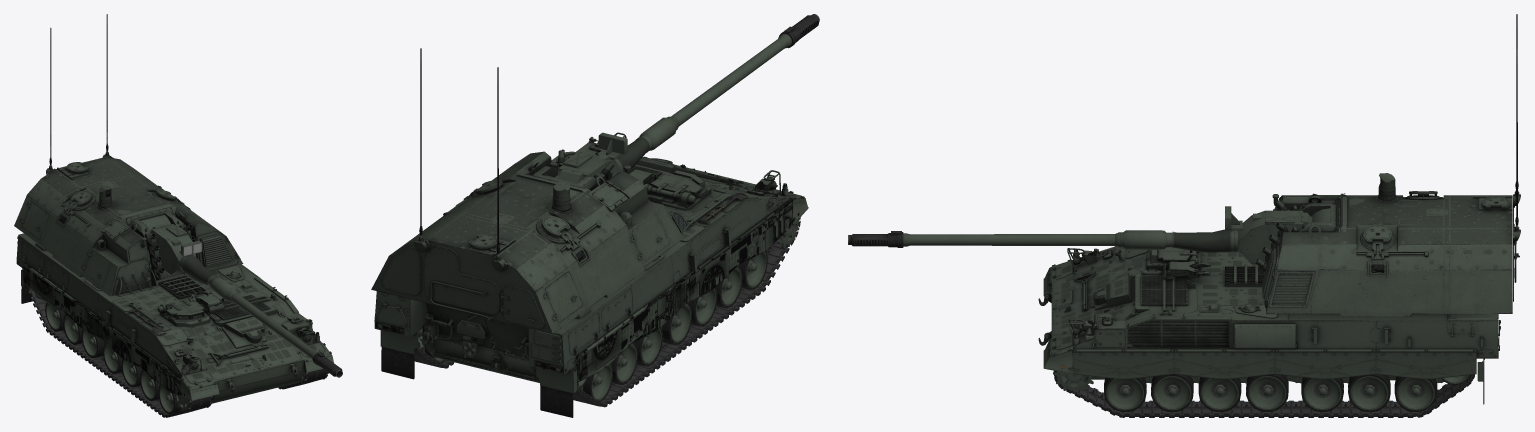
The model's file is pzh2000.glb.
3 views of the same model, side by side, from view 1: azimuth 30°, elevation 25°; view 2: azimuth 150°, elevation 25°; view 3: azimuth 270°, elevation 25° (orthographic). The views are drawn at different scales.
Visible parts, largest first — view 1: hull, g_turret_pzh2000, Object002__PzH_2000Hull_252_0, tread_right, g_cannonbase_pzh2000_l52mk2, g_cannon_l52mk2, cannon_l52mk2_skinned, wheel15, wheel13, wheel17, wheel12, wheel11 (+3 smaller); view 2: g_turret_pzh2000, hull, Object002__PzH_2000Hull_252_0, tread_right, g_cannon_l52mk2, g_cannonbase_pzh2000_l52mk2, wheel14, wheel16, wheel12, wheel11, wheel15, wheel13 (+2 smaller); view 3: hull, g_turret_pzh2000, Object001__PzH_2000Gear_442_0, g_cannon_l52mk2, tread_left, g_cannonbase_pzh2000_l52mk2, wheel3, wheel7, wheel5, wheel8, wheel4, wheel6 (+2 smaller).
Part boxes in pixels (<box>): hull: <box>16,233,333,403</box>; g_turret_pzh2000: <box>14,144,243,296</box>; Object002__PzH_2000Hull_252_0: <box>23,263,182,396</box>; tread_right: <box>25,284,212,417</box>; g_cannonbase_pzh2000_l52mk2: <box>140,215,202,274</box>; g_cannon_l52mk2: <box>208,276,342,377</box>; cannon_l52mk2_skinned: <box>182,256,217,286</box>; wheel15: <box>81,329,105,358</box>; wheel13: <box>121,359,142,387</box>; wheel17: <box>45,302,65,331</box>; wheel12: <box>140,370,159,401</box>; wheel11: <box>158,386,181,414</box>; g_turret_pzh2000: <box>371,150,689,333</box>; hull: <box>374,132,808,417</box>; Object002__PzH_2000Hull_252_0: <box>576,199,795,382</box>; tread_right: <box>572,221,800,407</box>; g_cannon_l52mk2: <box>639,14,819,150</box>; g_cannonbase_pzh2000_l52mk2: <box>545,132,627,183</box>; wheel14: <box>661,302,691,345</box>; wheel16: <box>611,342,637,385</box>; wheel12: <box>716,265,742,308</box>; wheel11: <box>738,250,767,289</box>; wheel15: <box>634,327,662,366</box>; wheel13: <box>688,287,717,326</box>; hull: <box>1038,246,1500,404</box>; g_turret_pzh2000: <box>1255,173,1520,316</box>; Object001__PzH_2000Gear_442_0: <box>1068,349,1476,379</box>; g_cannon_l52mk2: <box>848,230,1172,249</box>; tread_left: <box>1053,351,1474,417</box>; g_cannonbase_pzh2000_l52mk2: <box>1225,206,1330,264</box>; wheel3: <box>1151,374,1193,411</box>; wheel7: <box>1348,374,1390,411</box>; wheel5: <box>1246,374,1288,411</box>; wheel8: <box>1394,376,1437,411</box>; wheel4: <box>1198,377,1241,411</box>; wheel6: <box>1301,377,1343,411</box>.
Size of the model in its own units: 3.64 by 6.34 by 11.3.
6 materials, 6 textured.
